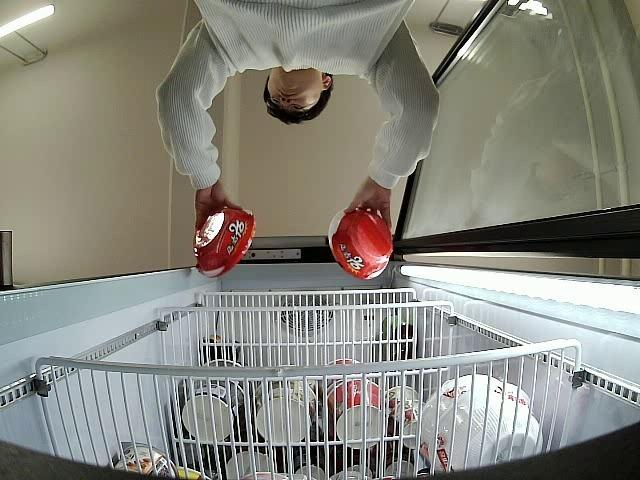10_wangTtukkeong: (328, 206, 393, 280), (194, 204, 256, 280)
